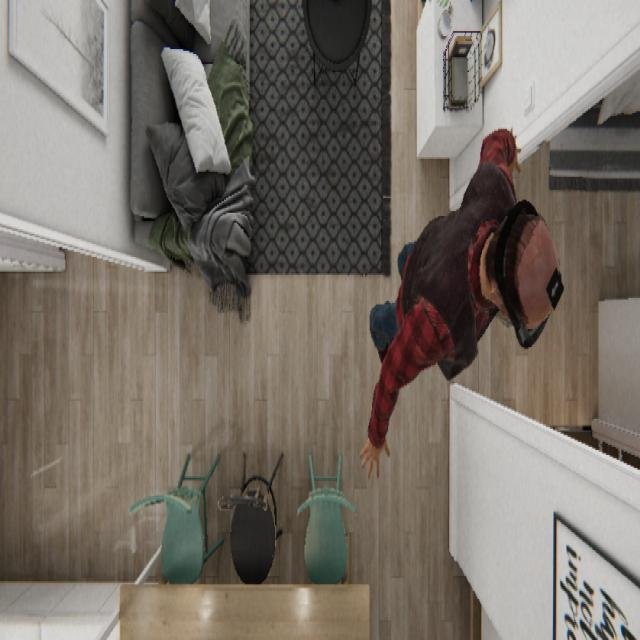Human: (358, 124, 564, 480)
UnityLogo: (546, 264, 564, 311)
